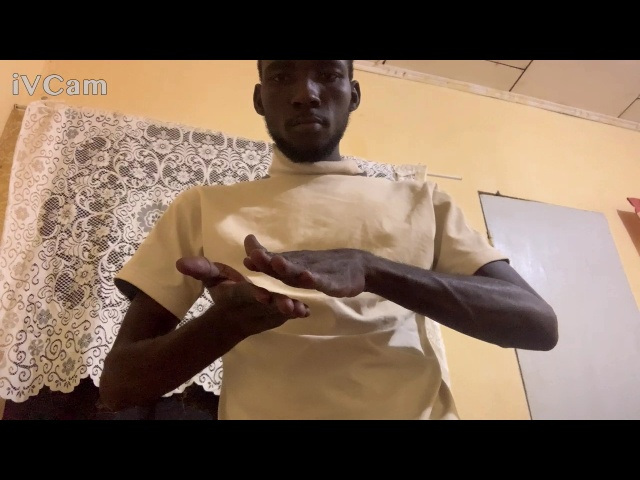pardon: (169, 231, 406, 342)
